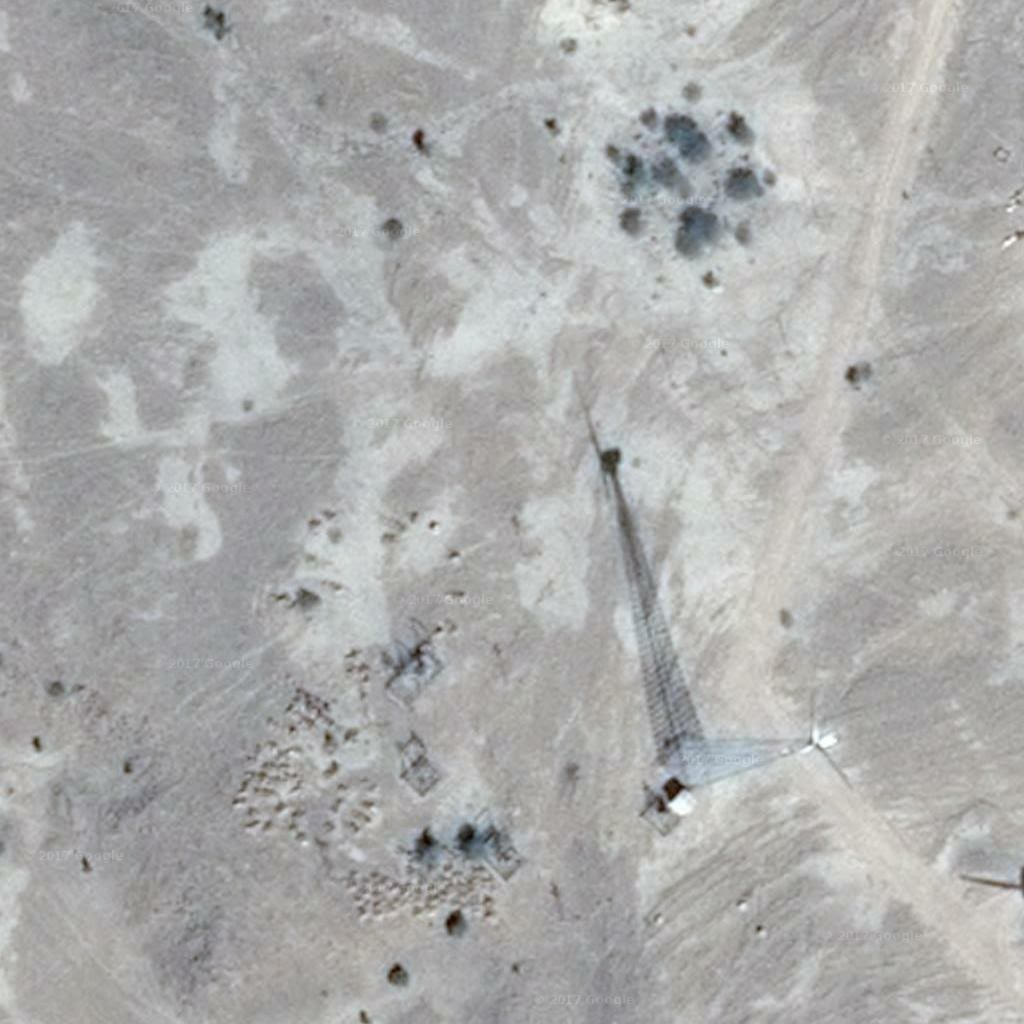Windmill: (564, 376, 688, 687)
